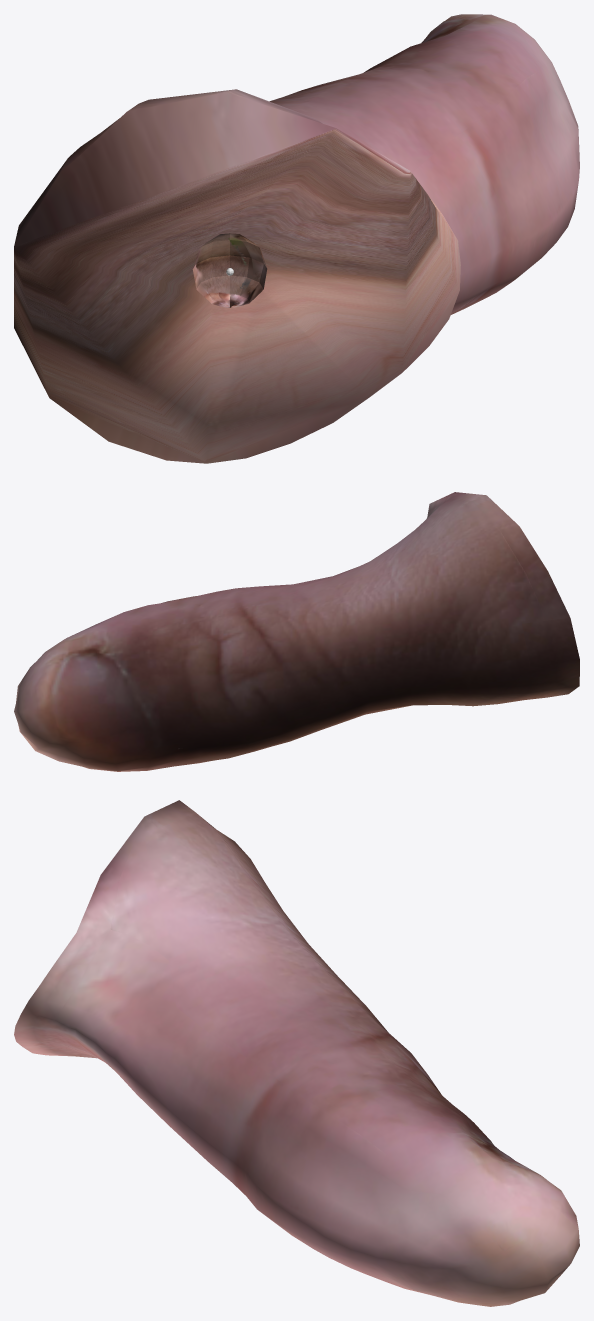
3 renders of one model, top to bottom at view 1: azimuth 30°, elevation 25°; view 2: azimuth 150°, elevation 25°; view 3: azimuth 270°, elevation 25°, orthographic. The views are drawn at different scales.
Visible parts, largest first — view 1: finger1; view 2: finger1; view 3: finger1.
Boxes of the visible parts, <box> form: finger1: <box>14,14,579,463</box>; finger1: <box>14,492,579,771</box>; finger1: <box>14,800,579,1306</box>.
Bounding box in the file's own units: 2.4 × 1.29 × 2.06.
1 material, 1 textured.
